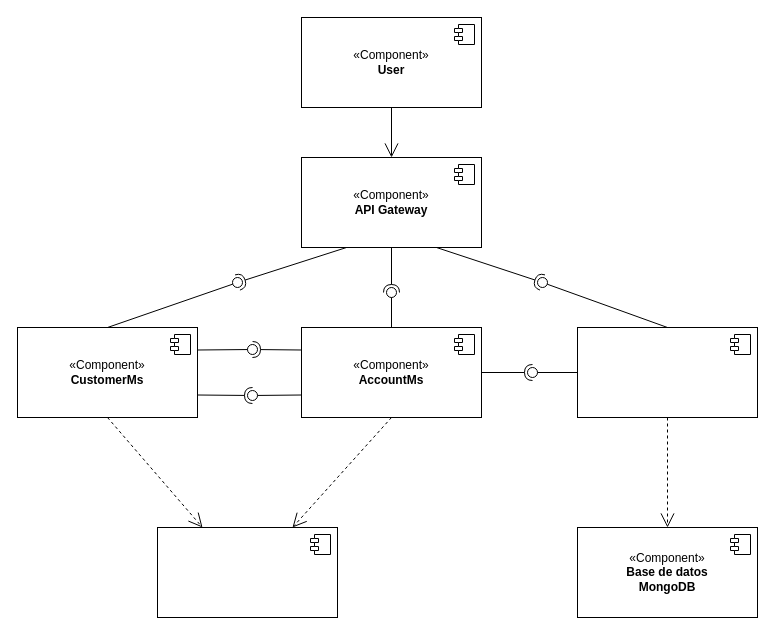
This 775x635 diagram has some shape labels left out. Here are the shapes that lost their labels. From the top down, the centre of each, then its label:
the point at 667,372: «Component» TransactionMs
the point at 247,572: «Component» Base de datos MySQL
